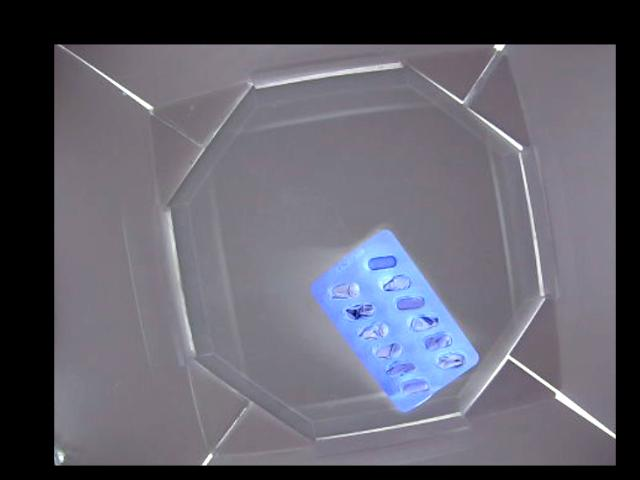Medicine: (312, 228, 480, 413)
